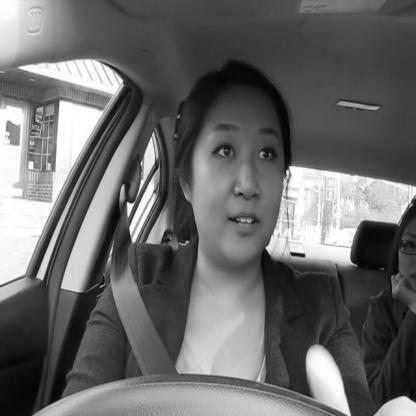seatbelt: (108, 53, 315, 384)
